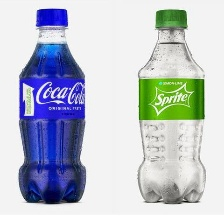bottle: (13, 4, 94, 209), (132, 4, 212, 209)
